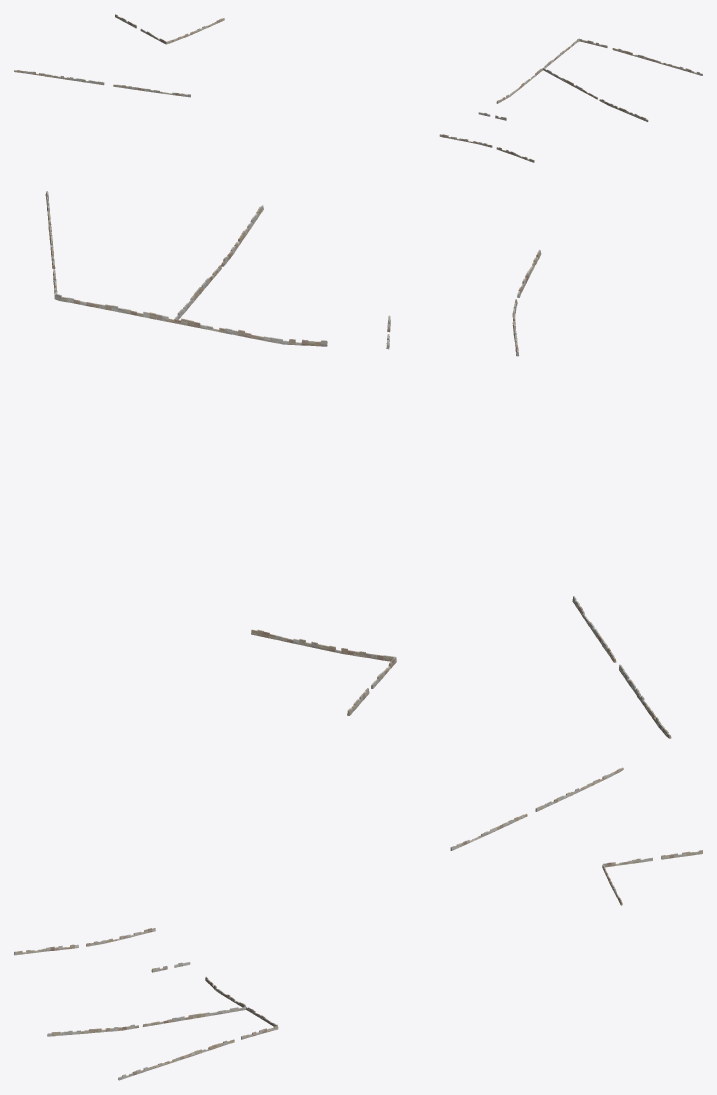
The model's file is farm_-6_16_mid.glb.
The picture shows the model from 3 angles, top to bottom: view 1: azimuth 30°, elevation 25°; view 2: azimuth 150°, elevation 25°; view 3: azimuth 270°, elevation 25°; orthographic projection. The views are drawn at different scales.
Visible parts, largest first — view 1: geometry_0; view 2: geometry_0; view 3: geometry_0.
Boxes of the visible parts, <box> form: geometry_0: <box>14,14,702,162</box>; geometry_0: <box>45,191,671,738</box>; geometry_0: <box>14,767,702,1080</box>.
Bounding box in the file's own units: 287 × 14.93 × 256.
